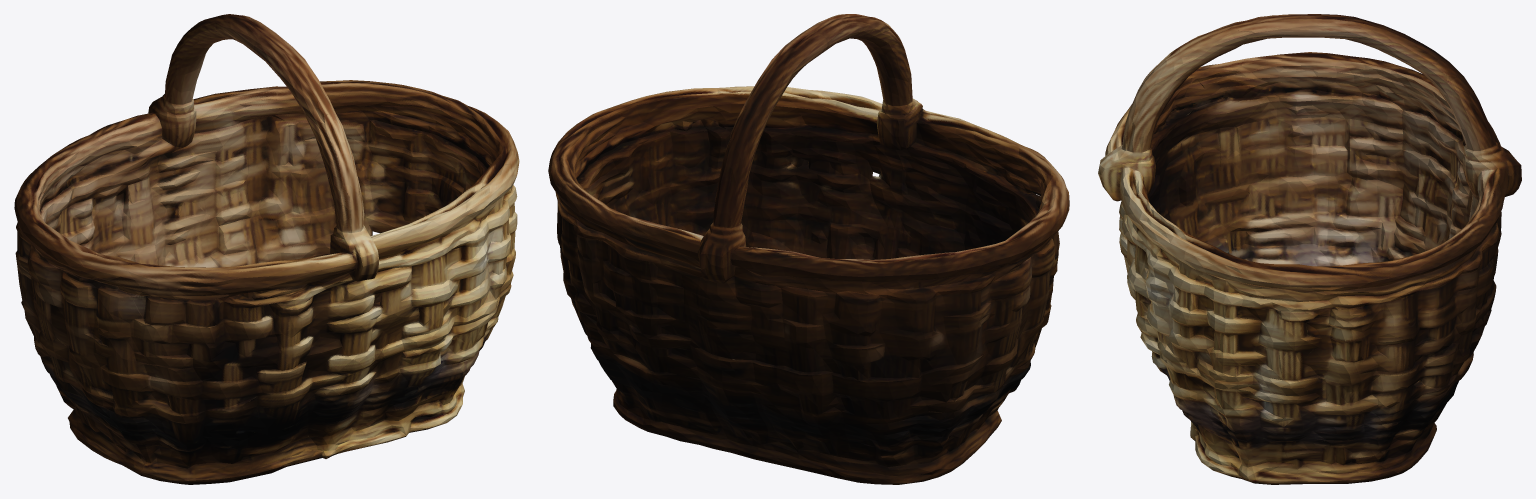
Rendered from woven-basket-file-holder-vintage.jpeg.glb.
The picture shows the model from 3 angles, left to right: view 1: azimuth 30°, elevation 25°; view 2: azimuth 150°, elevation 25°; view 3: azimuth 270°, elevation 25°; orthographic projection.
Parts seen in each view (by area): view 1: world; view 2: world; view 3: world.
Boxes of the visible parts, left/top/right/bottom form: world: left=14, top=14, right=519, bottom=484; world: left=548, top=14, right=1069, bottom=484; world: left=1098, top=14, right=1521, bottom=484.
Size of the model in its own units: 0.9998 by 0.7944 by 0.7884.
Materials: 1 (1 with a texture image).
